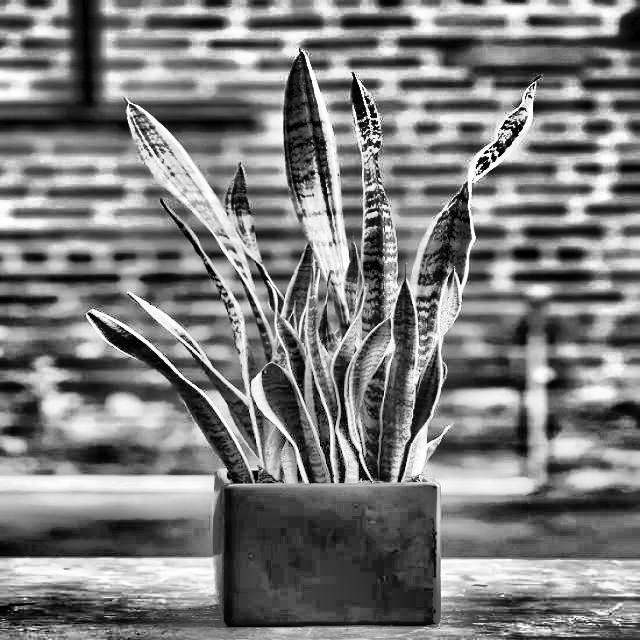plants: (77, 52, 546, 494)
